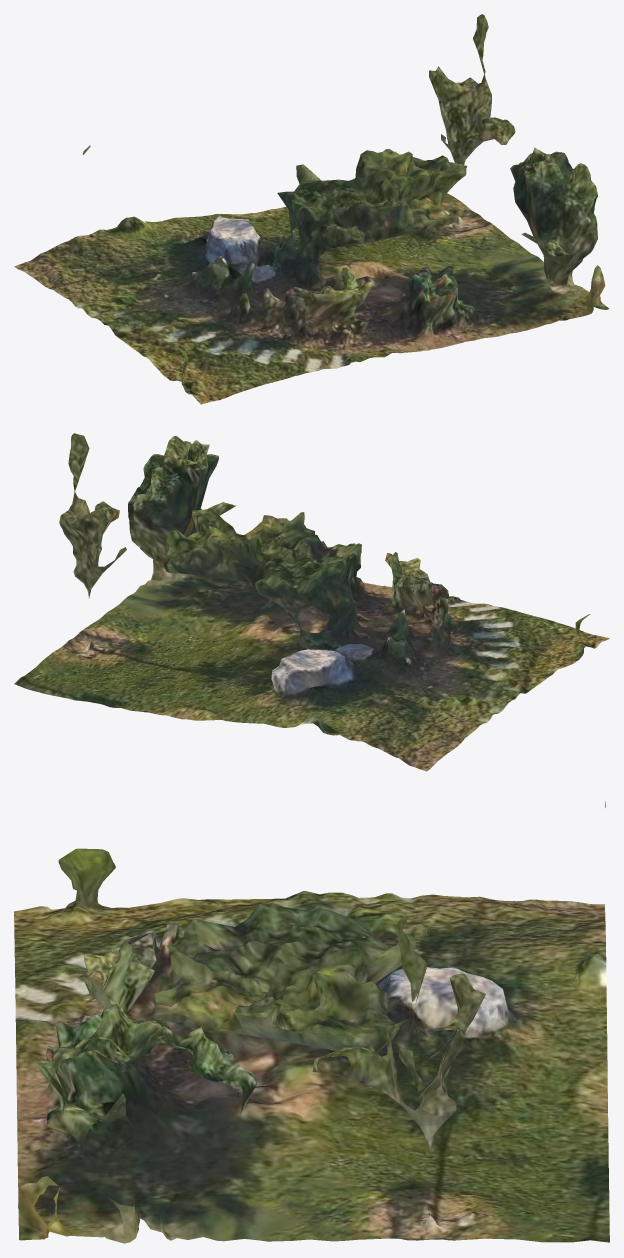
Rendered from Tile_+006_+007_L22_0003030.glb.
3 renders of one model, top to bottom at view 1: azimuth 30°, elevation 25°; view 2: azimuth 150°, elevation 25°; view 3: azimuth 270°, elevation 25°, orthographic. The views are drawn at different scales.
Parts seen in each view (by area): view 1: rtc; view 2: rtc; view 3: rtc.
Boxes of the visible parts, <box> form: rtc: <box>14,14,609,404</box>; rtc: <box>14,433,609,771</box>; rtc: <box>14,801,609,1243</box>.
Bounding box in the file's own units: 8.86 × 4.27 × 6.94.
1 material, 1 textured.
